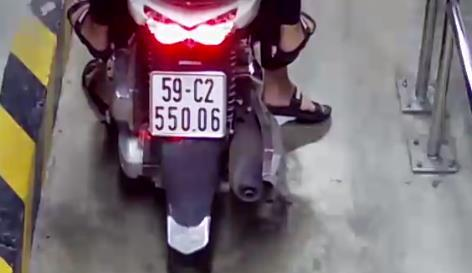lisence: (149, 71, 228, 137)
